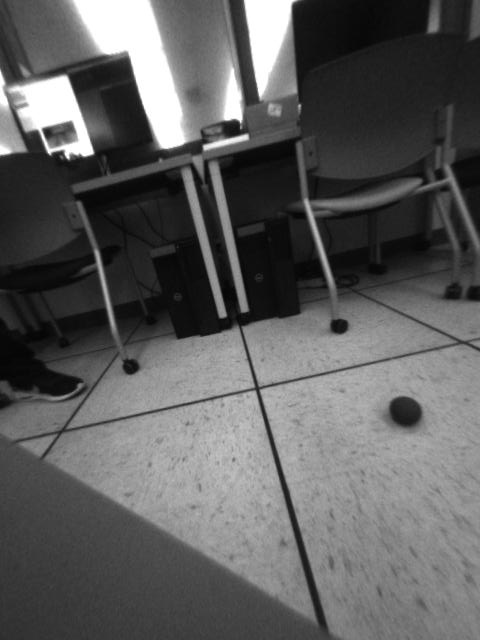dogtoy: (379, 388, 427, 432)
